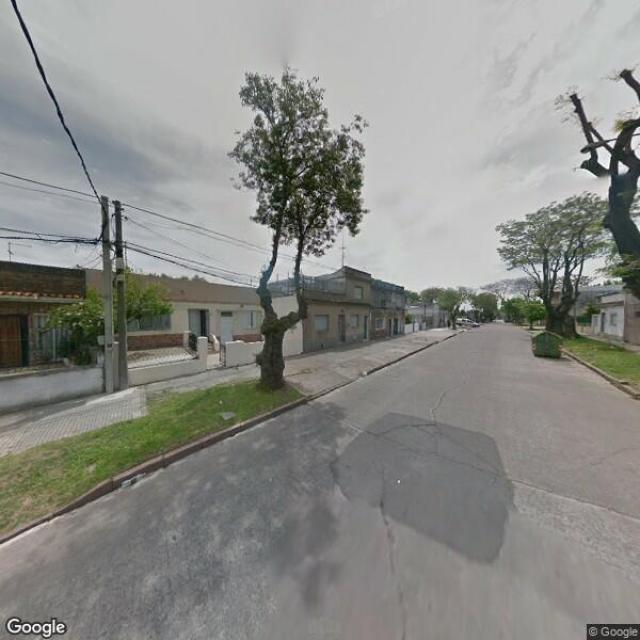garbage container: (527, 326, 571, 366)
